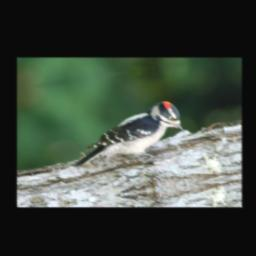Woodpecker: (62, 97, 191, 172)
